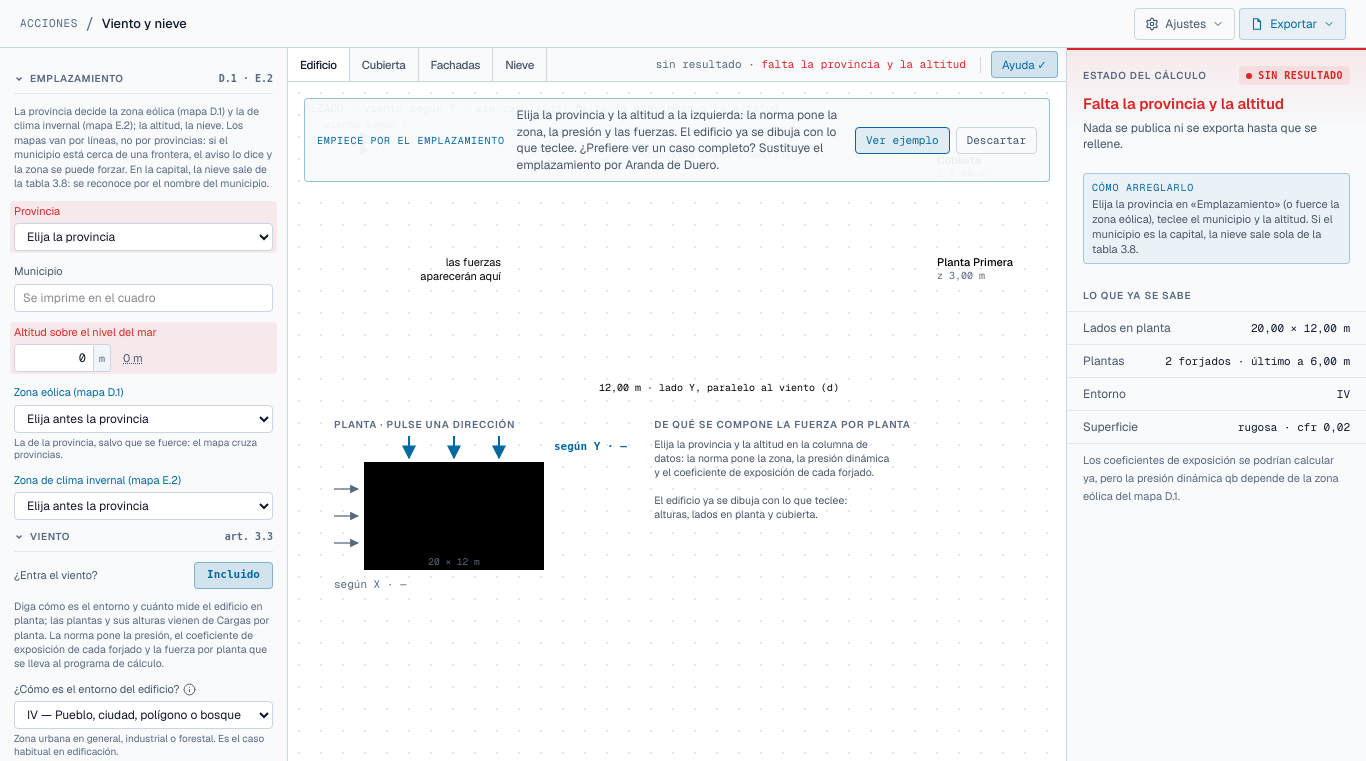
Test case: Guardar en el anejo desde «Exportar» › con obra abierta: guarda la pieza con el título tecleado y no descarga nada
Select "Madrid" in the dropdown named "Provincia": coordinates (144, 237) [14, 223, 273, 251]
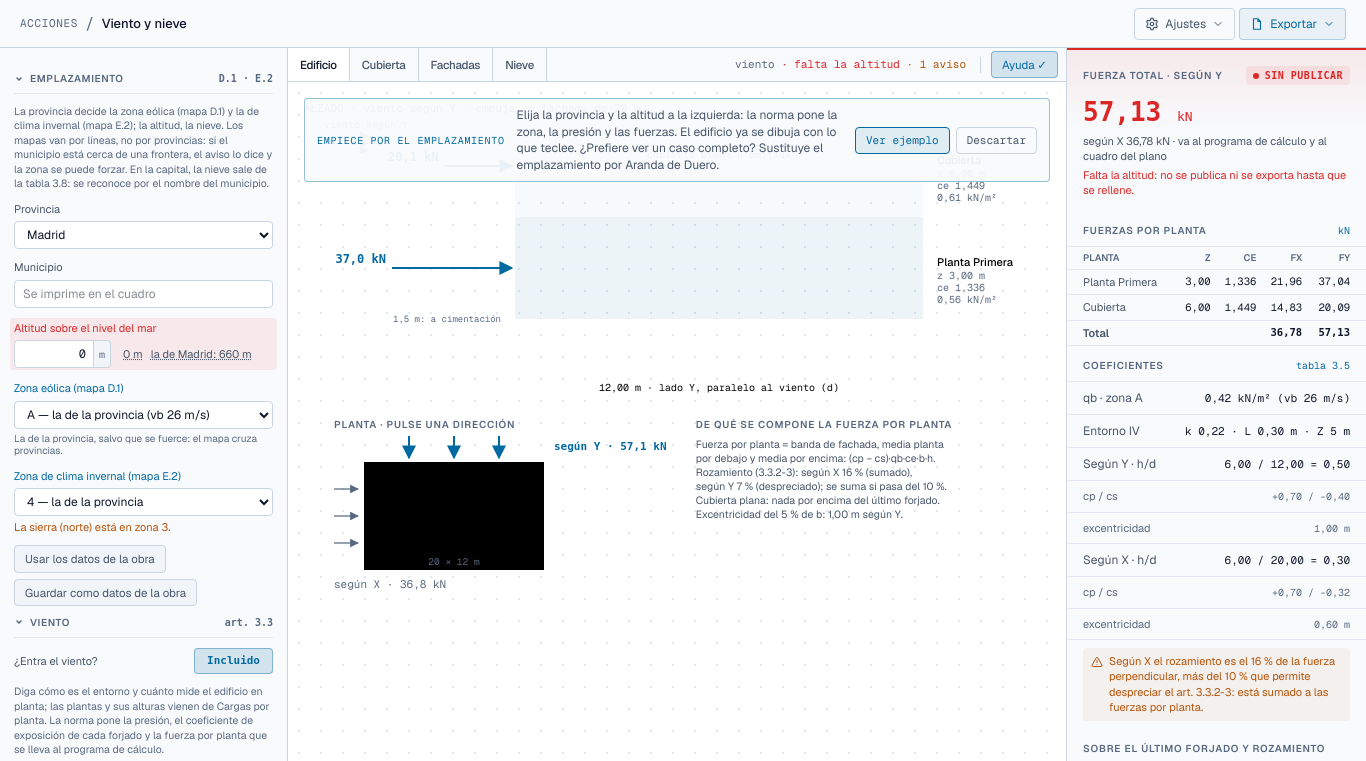
Replace the text in the field named "Altitud" with "660": coordinates (54, 354) [14, 340, 94, 368]
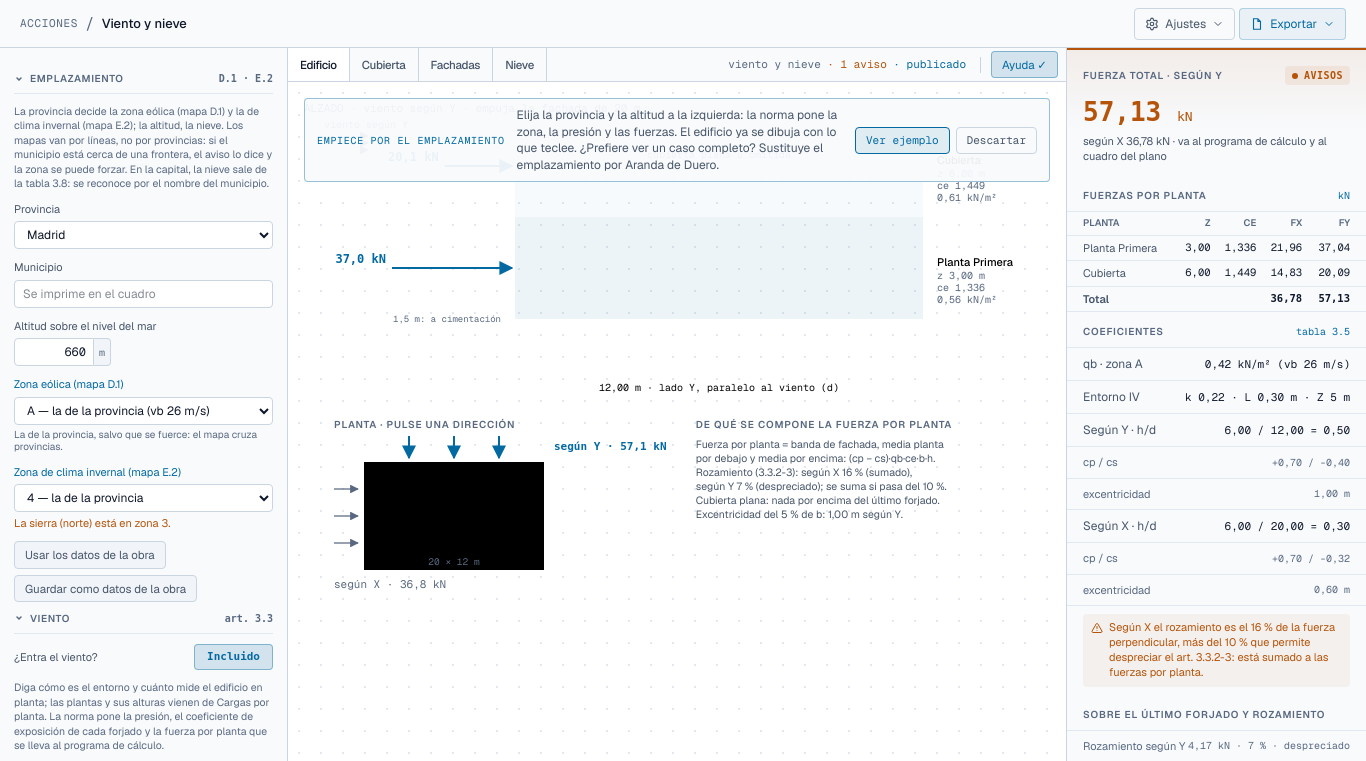
Click the button "Exportar": coordinates (1293, 24) [1239, 8, 1346, 40]
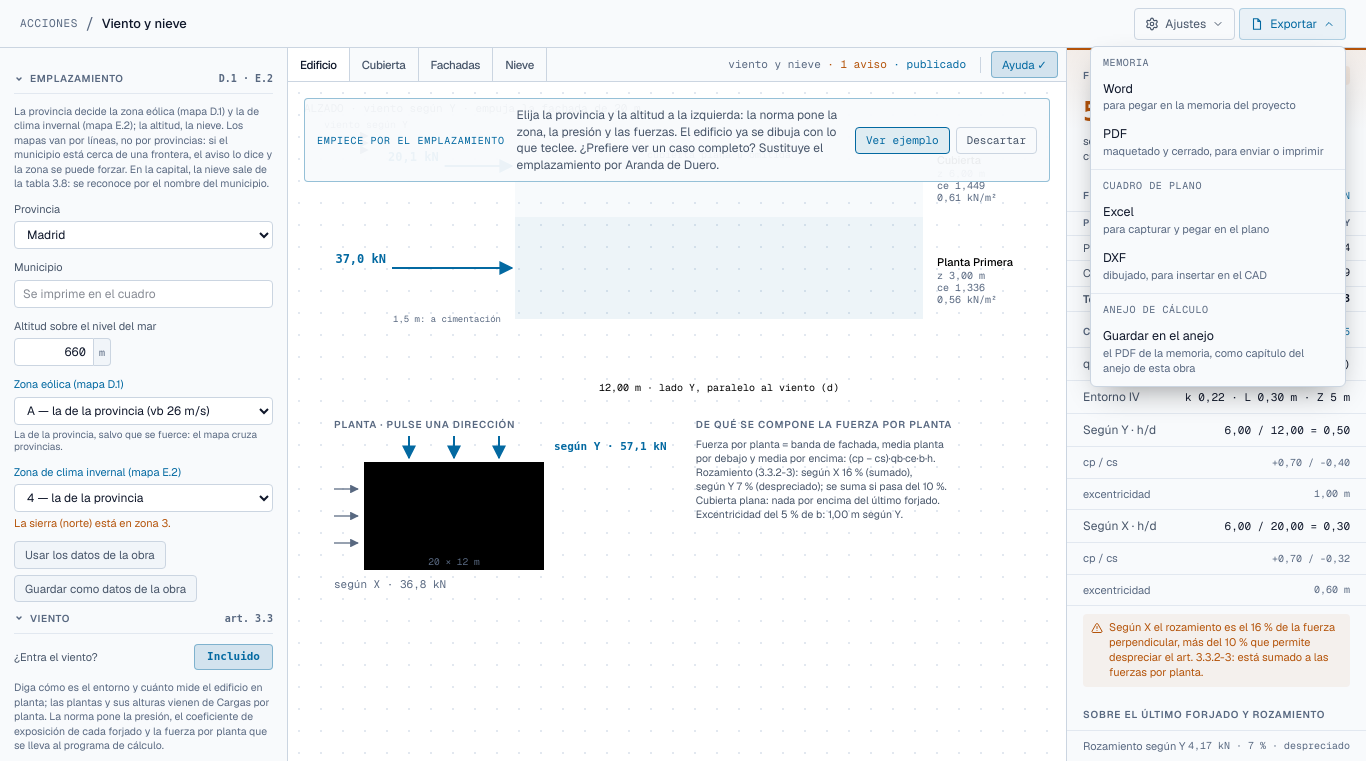
Click the menu item "Guardar en el anejo": coordinates (1218, 352) [1091, 321, 1345, 382]
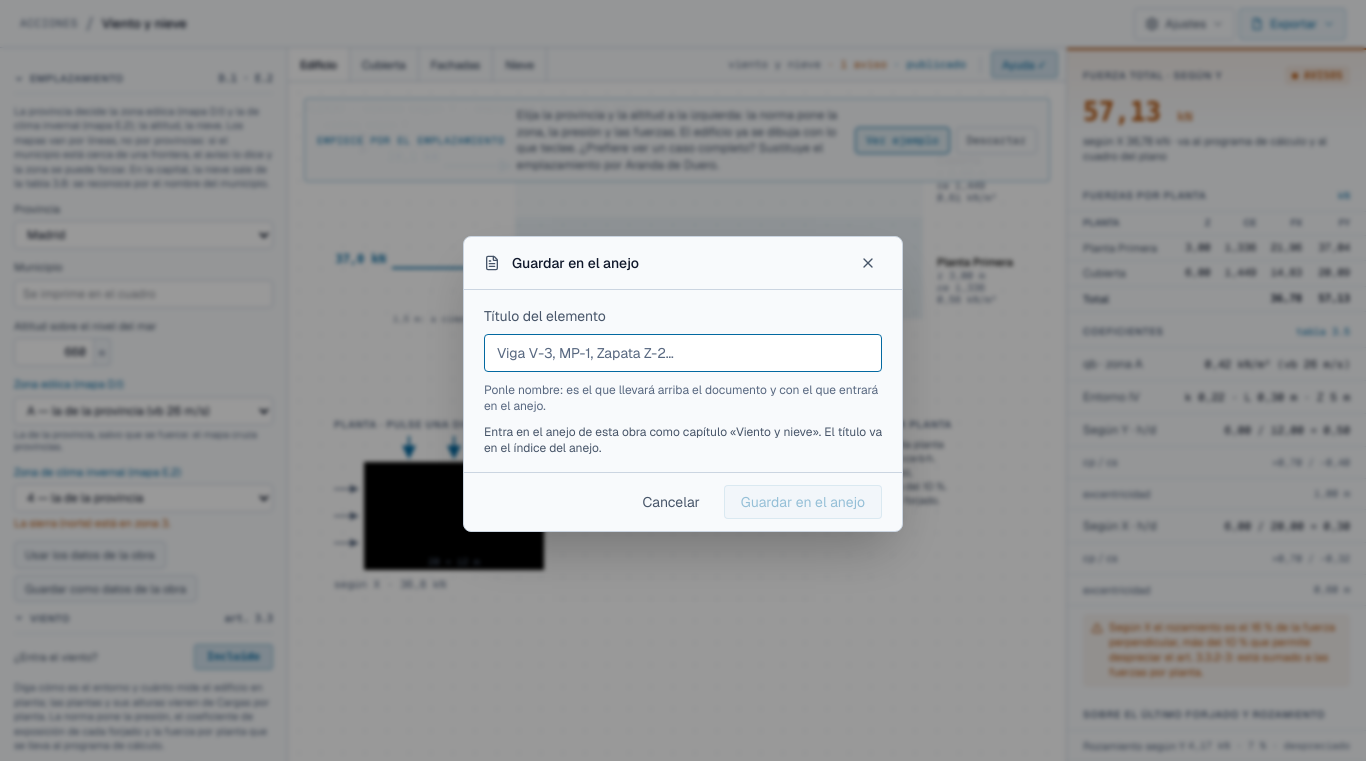
In the field labelled "Título del elemento": coordinates (683, 353) [484, 334, 882, 372], type "Nave F5 viento"
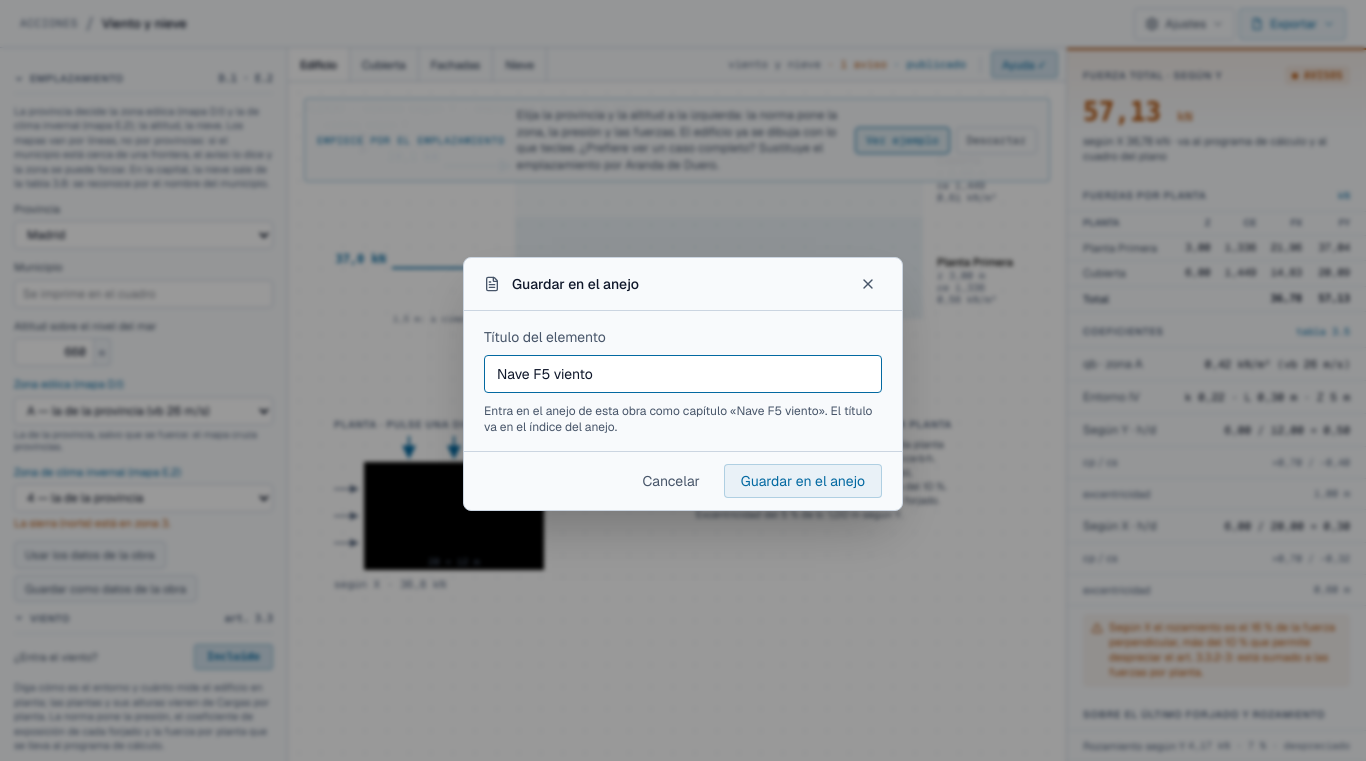
Click the button "Guardar en el anejo": coordinates (803, 481) [724, 464, 882, 498]
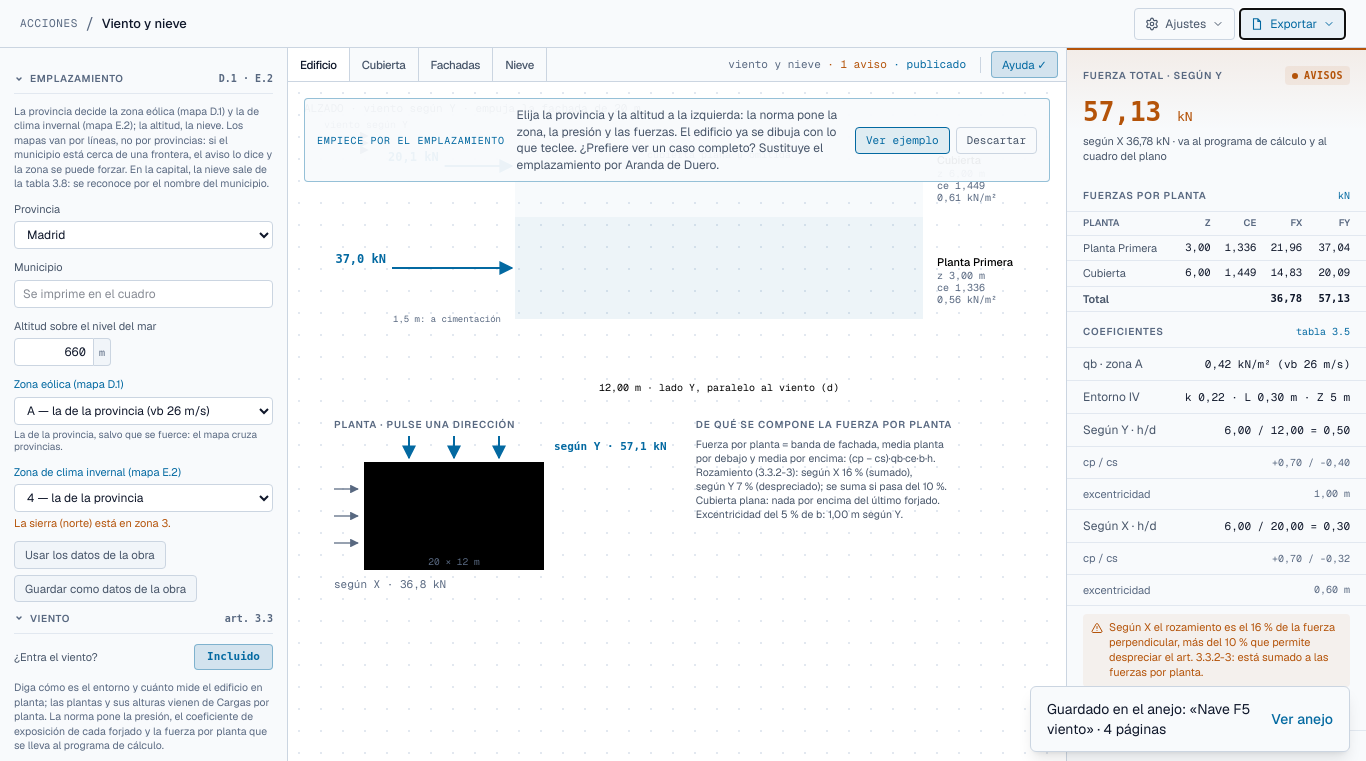
Expected: the dialog is gone
Expected: the text "Guardado en el anejo: «Nave F5 viento» · 4 páginas" is shown, [1047, 699, 1259, 739]
